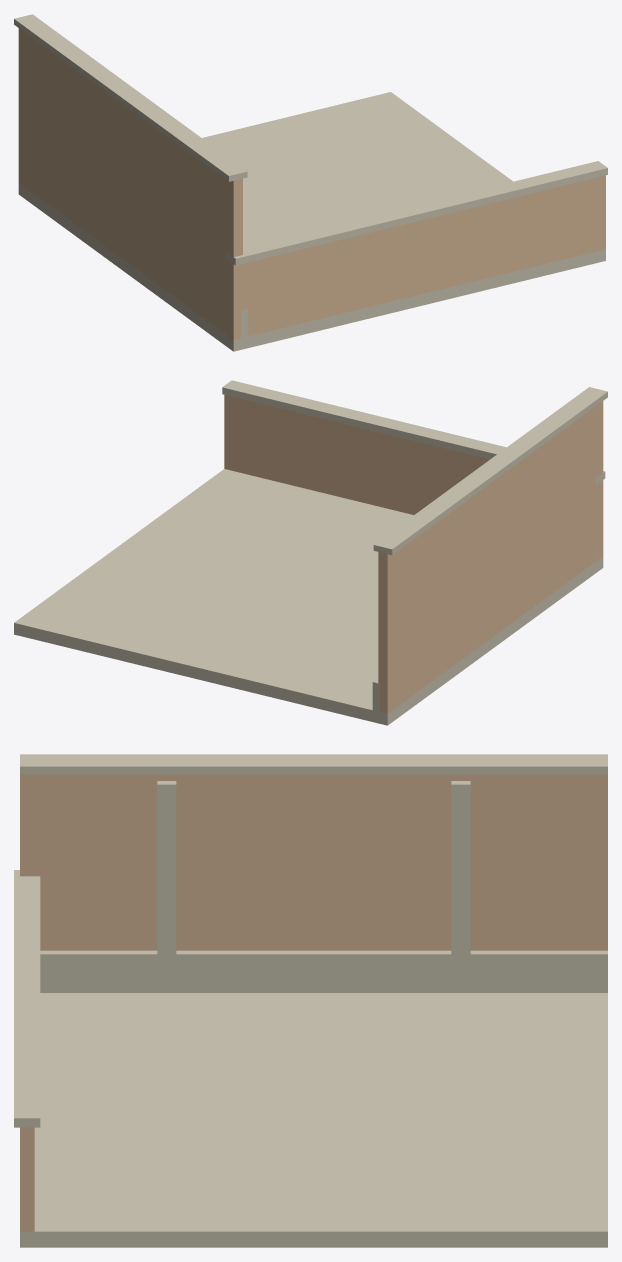
The model's file is district-0-2-1.glb.
3 renders of one model, top to bottom at view 1: azimuth 30°, elevation 25°; view 2: azimuth 150°, elevation 25°; view 3: azimuth 270°, elevation 25°, orthographic. The views are drawn at different scales.
Parts seen in each view (by area): view 1: plaster.013, stone.015; view 2: stone.015, plaster.013; view 3: stone.015, plaster.013.
Boxes of the visible parts, x1,y1,x2,y2 form: plaster.013: (18,28,605,339); stone.015: (14,14,607,351); stone.015: (14,380,607,725); plaster.013: (224,395,603,713); stone.015: (14,754,607,1247); plaster.013: (20,774,607,1231).
Size of the model in its own units: 8.1 by 3.63 by 8.08.
